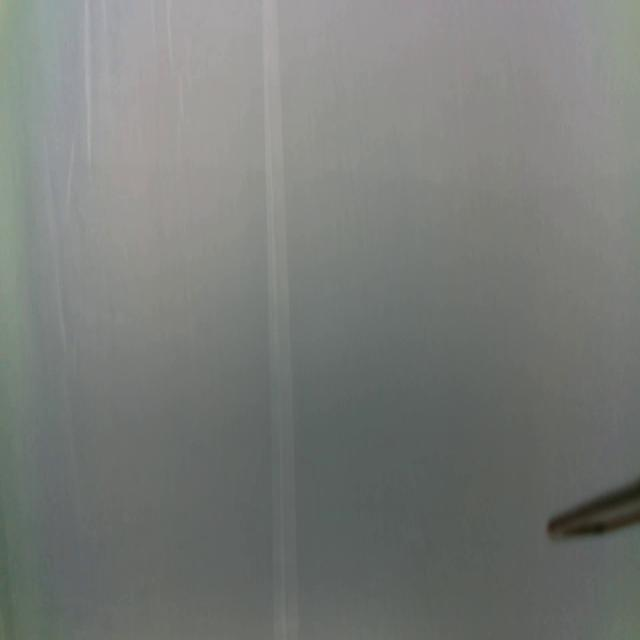crease: (261, 1, 299, 638), (82, 0, 95, 172)
